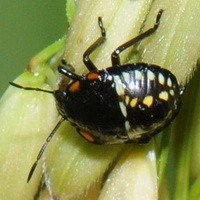insect: (10, 9, 182, 181)
